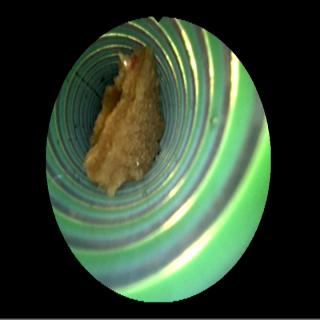stone: (82, 46, 162, 196)
